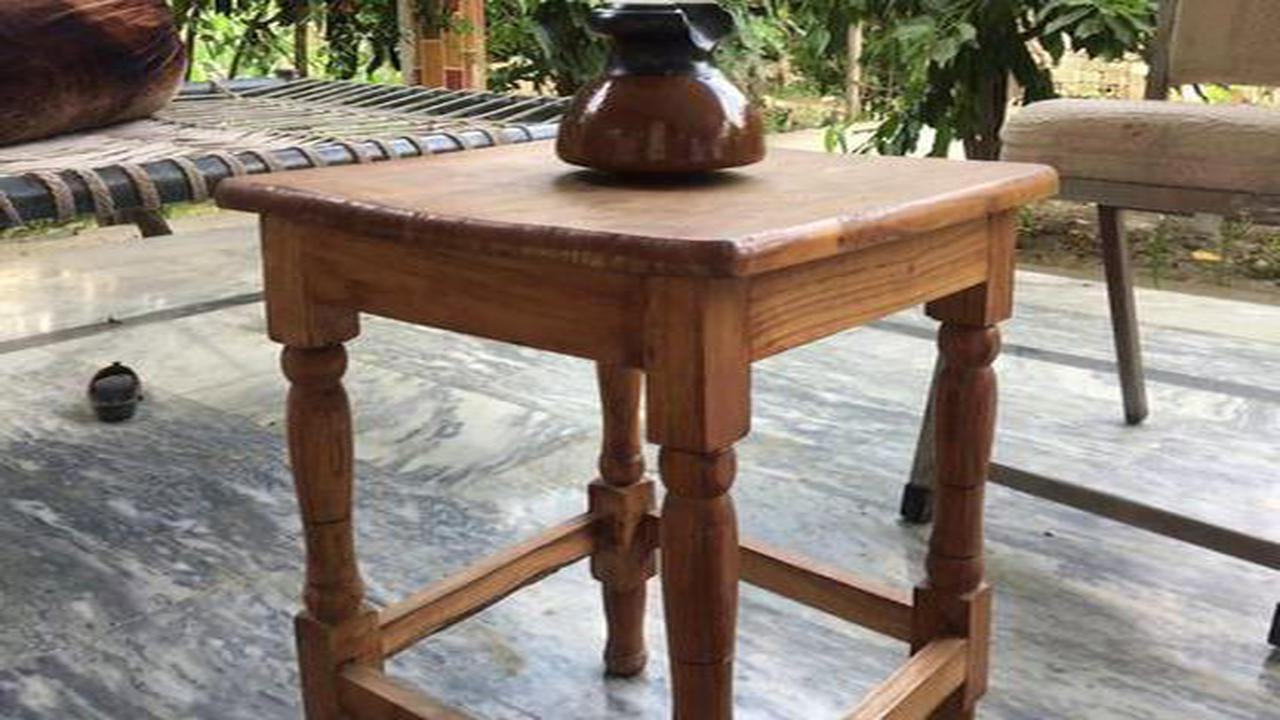insulator_pin: (539, 1, 785, 200)
